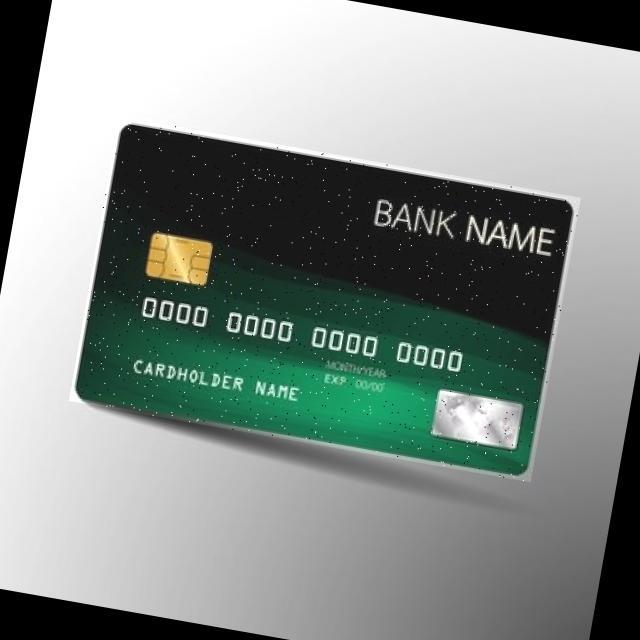payment_card: (71, 122, 581, 482)
